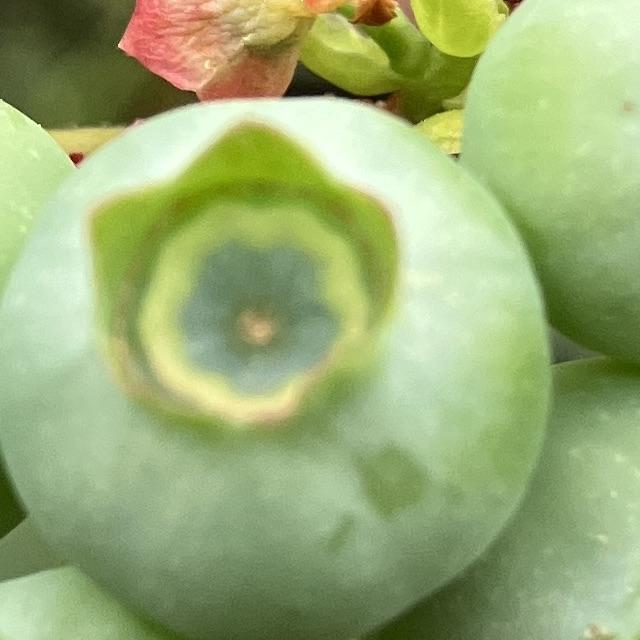Blueberries: (0, 89, 553, 640)
